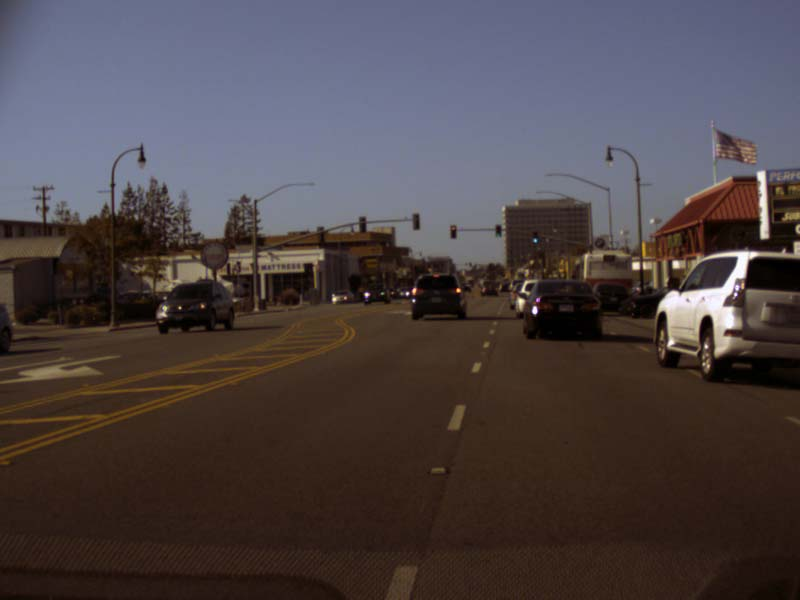Green: (531, 230, 537, 242)
Red: (450, 223, 456, 238)
